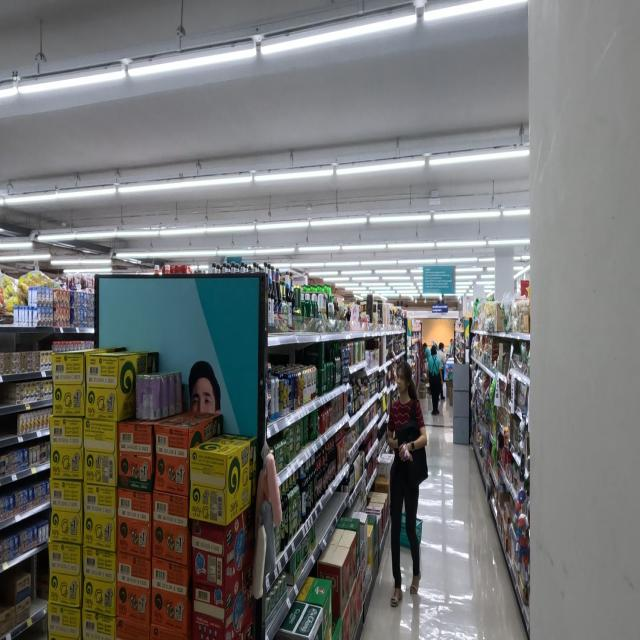shoplifting: (385, 353, 426, 604)
